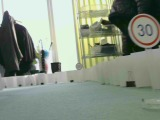speed_30: (127, 14, 160, 48)
